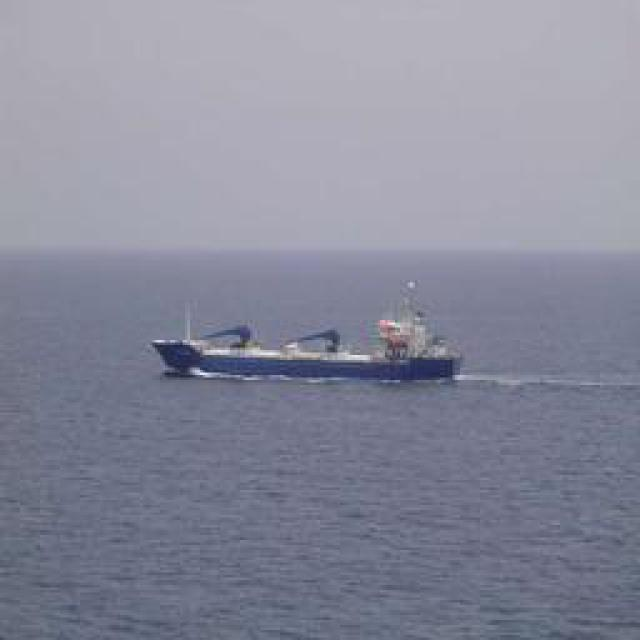Ship: (150, 292, 458, 385)
